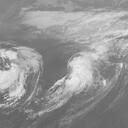cyclone: (58, 51, 106, 98)
